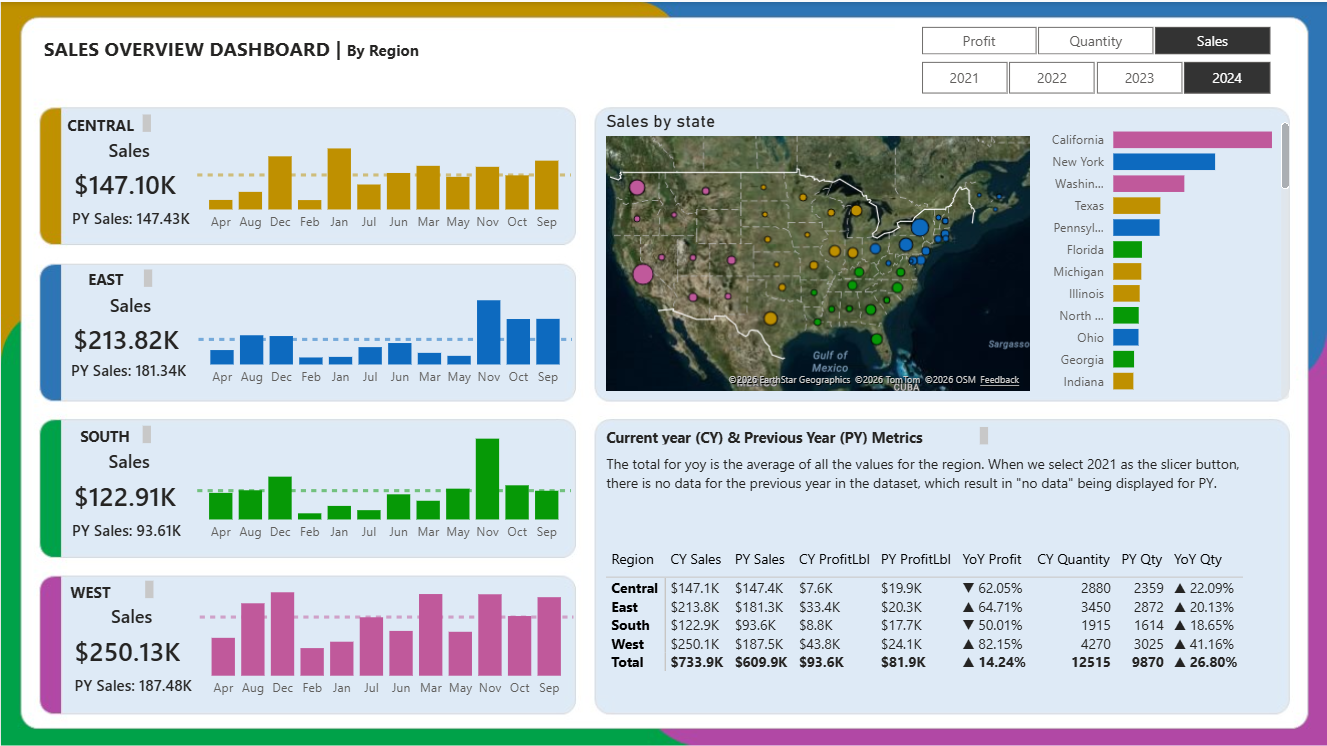

This screenshot's page, from the dashboard's own definition file:
{"tool":"powerbi","page":{"name":"Page 1","canvas":[1280,720],"ordinal":0},"visuals":[{"type":"slicer","fields":{"Values":["select metrix.select metrix"]},"box":[862.6,16.9,386.1,33.8],"z":0},{"type":"cardVisual","fields":{"Data":["Sales Data.Total_Sales"]},"box":[36.1,142.9,167.4,64.9],"z":0,"group":"g1"},{"type":"cardVisual","fields":{"Data":["Sales Data.Total_Sales"]},"box":[37.4,292.5,167.4,64.9],"z":0,"group":"g2"},{"type":"cardVisual","fields":{"Data":["Sales Data.Total_Sales"]},"box":[36.2,443.3,167.4,64.9],"z":0,"group":"g3"},{"type":"cardVisual","fields":{"Data":["Sales Data.Total_Sales"]},"box":[38.6,592.9,167.4,64.9],"z":0,"group":"g4"},{"type":"slicer","fields":{"Values":["Calendar.Year"]},"box":[862.6,50.7,386.1,44.6],"z":1000},{"type":"textbox","box":[59.1,103.8,90.5,27.7],"z":1000,"group":"g1"},{"type":"textbox","box":[60.4,253.4,90.5,27.7],"z":1000,"group":"g2"},{"type":"textbox","box":[59.2,404.2,90.5,27.7],"z":1000,"group":"g3"},{"type":"textbox","box":[61.6,553.8,90.5,27.7],"z":1000,"group":"g4"},{"type":"textbox","box":[36.2,27.7,444,45.8],"z":2000},{"type":"cardVisual","fields":{"Data":["Sales Data.dynamic title"]},"box":[44.8,105.4,158.7,73.6],"z":2000,"group":"g1"},{"type":"cardVisual","fields":{"Data":["Sales Data.dynamic title"]},"box":[46.1,255,158.7,73.6],"z":2000,"group":"g2"},{"type":"cardVisual","fields":{"Data":["Sales Data.dynamic title"]},"box":[44.9,405.8,158.7,73.6],"z":2000,"group":"g3"},{"type":"cardVisual","fields":{"Data":["Sales Data.dynamic title"]},"box":[47.3,555.4,158.7,73.6],"z":2000,"group":"g4"},{"type":"group","id":"g1","title":"Group 1","box":[36.1,103.8,518.9,126.7],"z":3000},{"type":"cardVisual","fields":{"Data":["Sales Data.PY Sales Label"]},"box":[44.7,185.8,165.3,44.6],"z":3000,"group":"g1"},{"type":"cardVisual","fields":{"Data":["Sales Data.PY Sales Label"]},"box":[38.4,327.8,187,51.9],"z":3000,"group":"g2"},{"type":"cardVisual","fields":{"Data":["Sales Data.PY Sales Label"]},"box":[44.8,486.2,165.3,44.6],"z":3000,"group":"g3"},{"type":"cardVisual","fields":{"Data":["Sales Data.PY Sales Label"]},"box":[47.2,635.8,165.3,44.6],"z":3000,"group":"g4"},{"type":"clusteredColumnChart","fields":{"Y":["Sales Data.Total_Sales"],"Category":["Calendar.Month_Name"]},"box":[184.6,105,370.4,125.5],"z":4000,"group":"g1"},{"type":"group","id":"g2","title":"Group 1","box":[37.4,253.4,518.8,126.7],"z":4000},{"type":"clusteredColumnChart","fields":{"Y":["Sales Data.Total_Sales"],"Category":["Calendar.Month_Name"]},"box":[185.9,254.6,370.4,125.5],"z":4000,"group":"g2"},{"type":"clusteredColumnChart","fields":{"Y":["Sales Data.Total_Sales"],"Category":["Calendar.Month_Name"]},"box":[185.1,404.3,370.4,125.5],"z":4000,"group":"g3"},{"type":"clusteredColumnChart","fields":{"Y":["Sales Data.Total_Sales"],"Category":["Calendar.Month_Name"]},"box":[187.1,555,370.4,125.5],"z":4000,"group":"g4"},{"type":"group","id":"g3","title":"Group 1","box":[36.2,404.2,518.8,126.7],"z":5000},{"type":"group","id":"g4","title":"Group 1","box":[38.6,553.8,518.8,126.7],"z":6000},{"type":"azureMap","title":"Sales by state","fields":{"Size":["Sales Data.Total_Sales"],"Category":["Sales Data.State/Province"],"Series":["Sales Data.Region"]},"box":[579.1,105,418.6,275.1],"z":7000},{"type":"barChart","fields":{"Category":["Sales Data.State/Province"],"Y":["Sales Data.Total_Sales"],"Series":["Sales Data.Region"]},"box":[997.7,103.8,250.9,284.7],"z":7001},{"type":"pivotTable","fields":{"Rows":["Sales Data.Region"],"Values":["Sales Data.CY Sales","Sales Data.PY Sales ($K)","Sales Data.CY Profit Label","Sales Data.PY Profit Label","Sales Data.YoY Profit %","Sales Data.CY Quantity","Sales Data.PY Quantity","Sales Data.YoY Quantity %"]},"box":[579.1,523.6,661.1,156.8],"z":7002},{"type":"textbox","box":[579.1,405.4,378.8,26.5],"z":7003},{"type":"textbox","box":[579.1,431.9,661.1,47.1],"z":7004}]}

Visuals, with their boxes in screenshot pixels (x1, y1, x2, y2), scaled from the page's 1280x720 canvas onto the 1327x746 screenshot:
slicer - select metrix.select metrix: crop(894, 18, 1295, 53)
cardVisual - Sales Data.Total_Sales: crop(37, 148, 211, 215)
cardVisual - Sales Data.Total_Sales: crop(39, 303, 212, 370)
cardVisual - Sales Data.Total_Sales: crop(38, 459, 211, 527)
cardVisual - Sales Data.Total_Sales: crop(40, 614, 214, 682)
slicer - Calendar.Year: crop(894, 53, 1295, 99)
textbox: crop(61, 108, 155, 136)
textbox: crop(63, 263, 156, 291)
textbox: crop(61, 419, 155, 447)
textbox: crop(64, 574, 158, 602)
textbox: crop(38, 29, 498, 76)
cardVisual - Sales Data.dynamic title: crop(46, 109, 211, 185)
cardVisual - Sales Data.dynamic title: crop(48, 264, 212, 340)
cardVisual - Sales Data.dynamic title: crop(47, 420, 211, 497)
cardVisual - Sales Data.dynamic title: crop(49, 575, 214, 652)
"Group 1" group: crop(37, 108, 575, 239)
cardVisual - Sales Data.PY Sales Label: crop(46, 193, 218, 239)
cardVisual - Sales Data.PY Sales Label: crop(40, 340, 234, 393)
cardVisual - Sales Data.PY Sales Label: crop(46, 504, 218, 550)
cardVisual - Sales Data.PY Sales Label: crop(49, 659, 220, 705)
clusteredColumnChart - Sales Data.Total_Sales x Calendar.Month_Name: crop(191, 109, 575, 239)
"Group 1" group: crop(39, 263, 577, 394)
clusteredColumnChart - Sales Data.Total_Sales x Calendar.Month_Name: crop(193, 264, 577, 394)
clusteredColumnChart - Sales Data.Total_Sales x Calendar.Month_Name: crop(192, 419, 576, 549)
clusteredColumnChart - Sales Data.Total_Sales x Calendar.Month_Name: crop(194, 575, 578, 705)
"Group 1" group: crop(38, 419, 575, 550)
"Group 1" group: crop(40, 574, 578, 705)
"Sales by state" azureMap: crop(600, 109, 1034, 394)
barChart - Sales Data.State/Province x Sales Data.Total_Sales: crop(1034, 108, 1294, 403)
pivotTable - Sales Data.Region x Sales Data.CY Sales: crop(600, 543, 1286, 705)
textbox: crop(600, 420, 993, 447)
textbox: crop(600, 447, 1286, 496)
